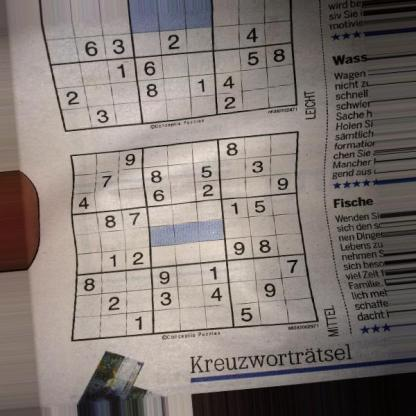sudoku: (65, 127, 323, 344)
